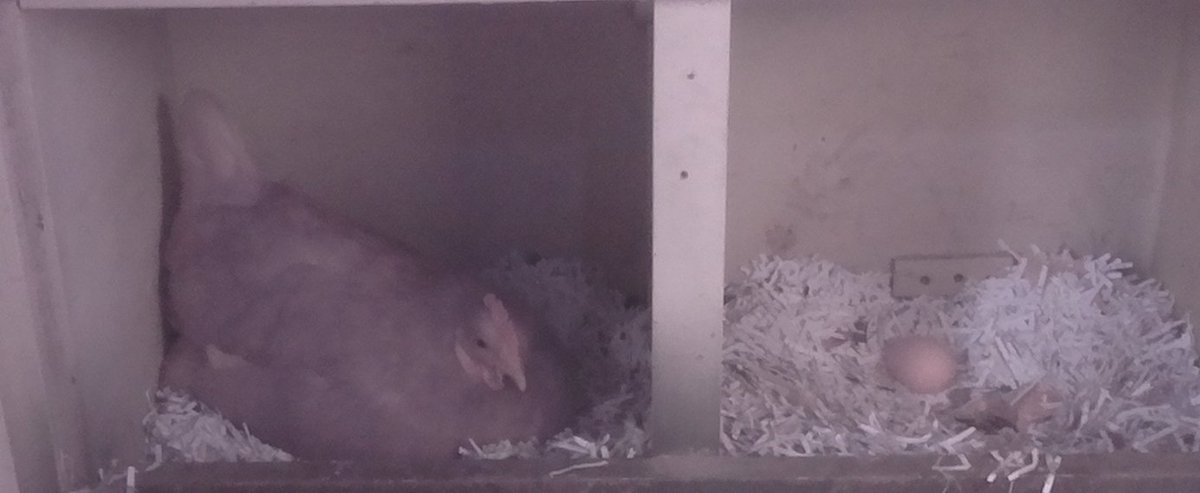egg: (876, 327, 966, 400)
hen: (148, 77, 600, 462)
